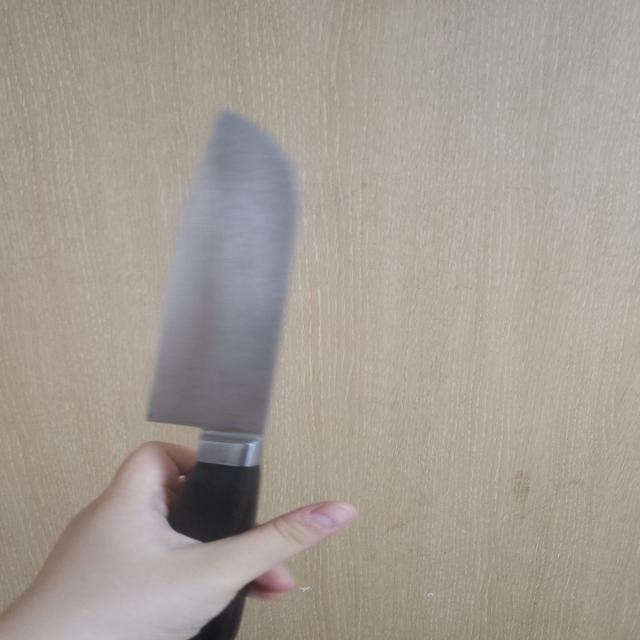knife: (146, 110, 298, 640)
